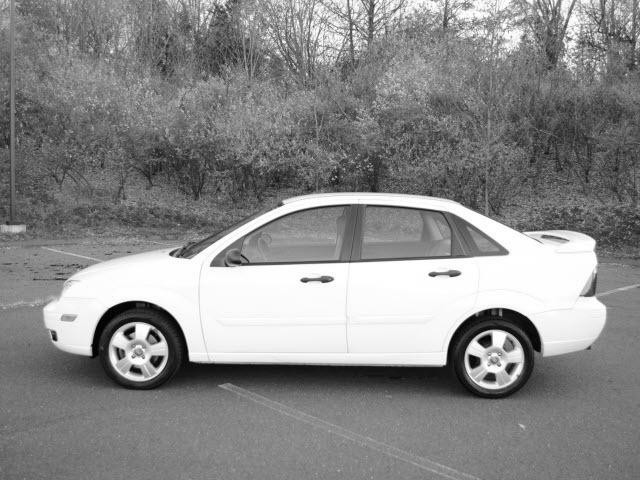car: (41, 194, 608, 398)
